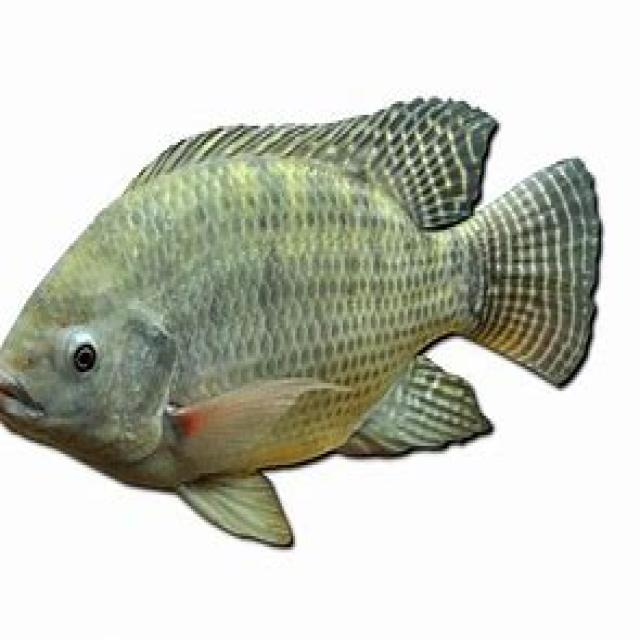Tilapia: (0, 94, 600, 547)
